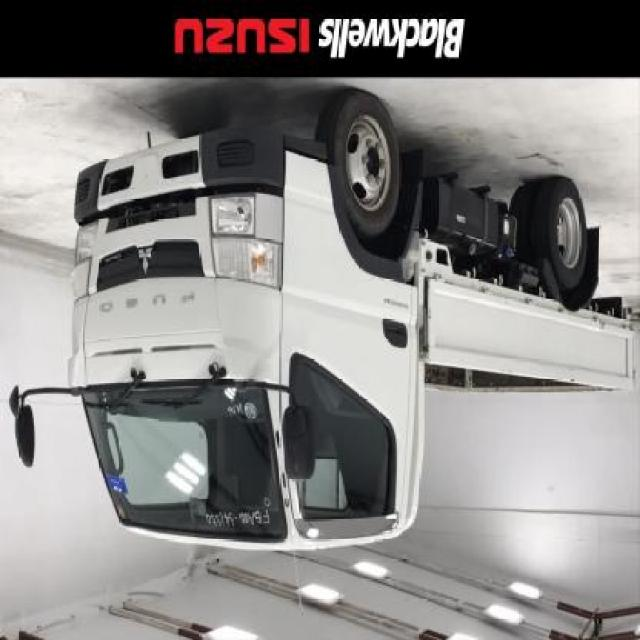truck: (12, 92, 640, 552)
